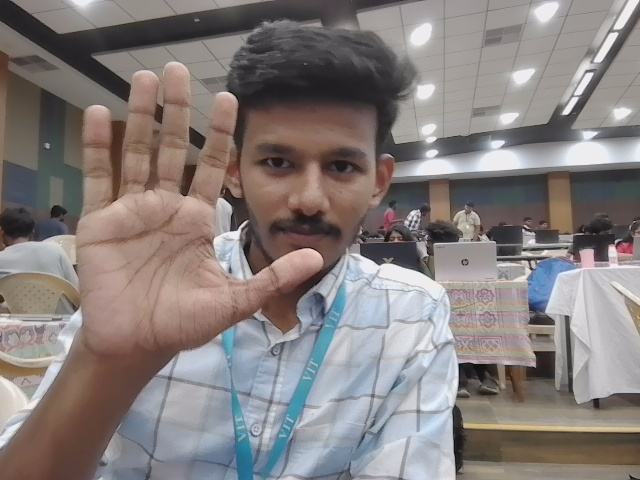hello: (71, 61, 323, 340)
